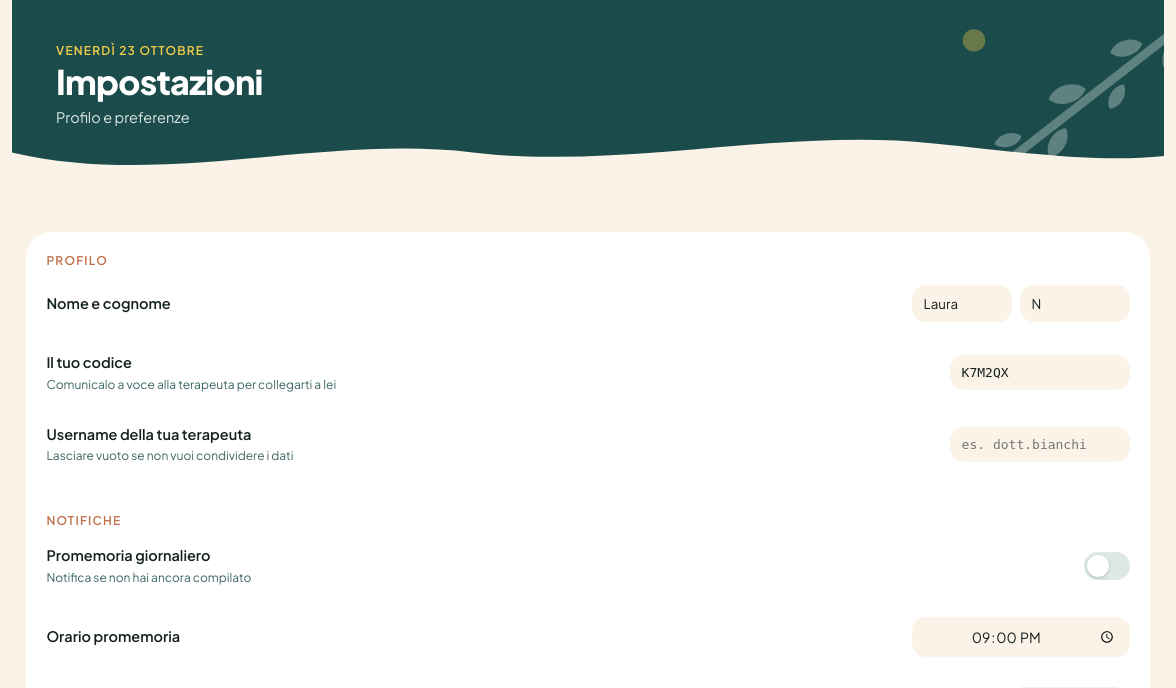
Test: PaginaImpostazioni › se il permesso viene negato spiega il motivo e resta spento
The image size is (1176, 688).
Click the switch named "Promemoria giornaliero" at (1107, 566), box [1084,552,1130,580]
(page scrolled)
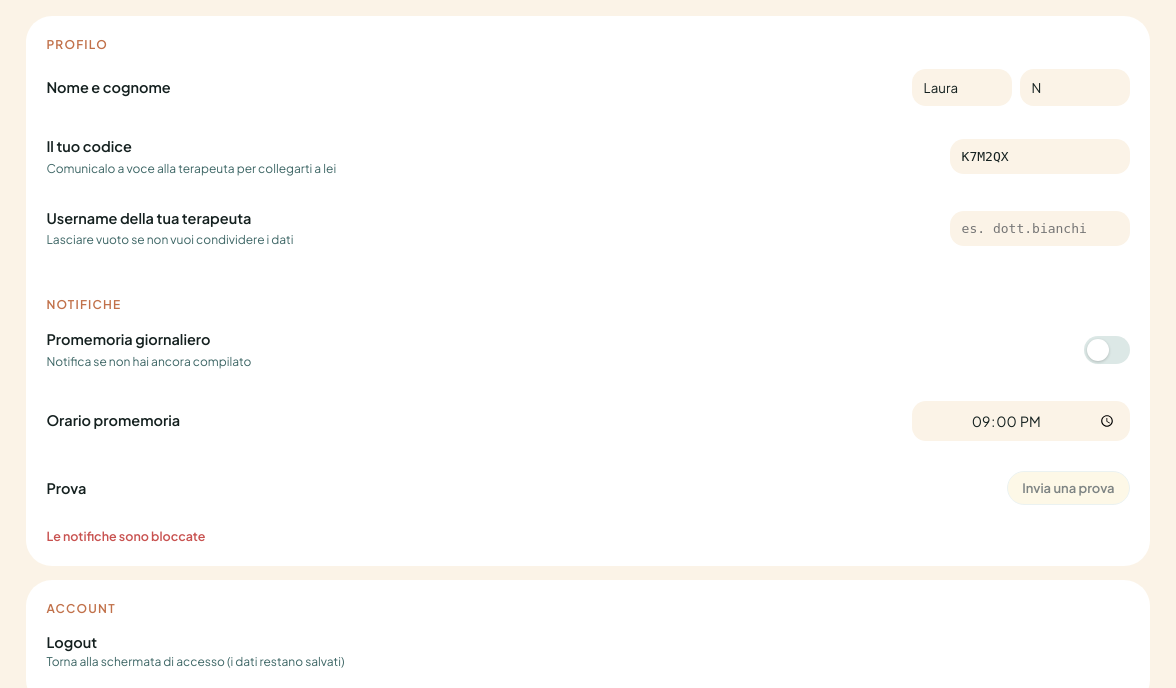
Expected: the switch named "Promemoria giornaliero" is not checked, [1084,336,1130,364]
Now the message shows "bloccate", box [46,528,206,544]
